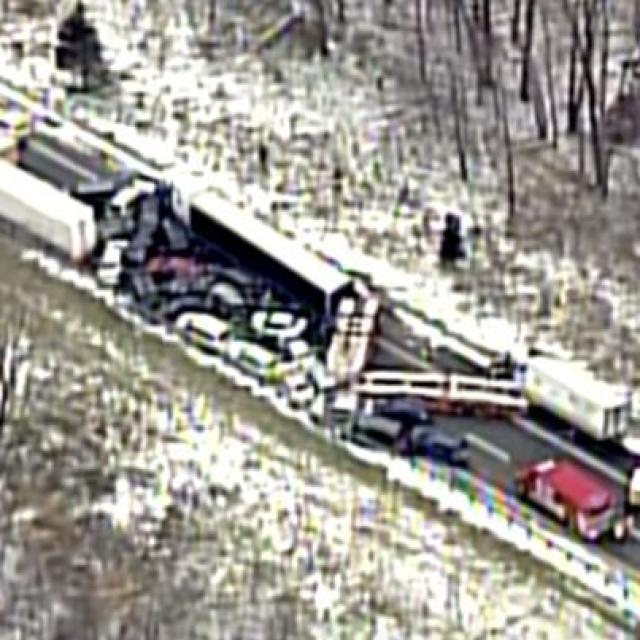traffic_incident: (117, 150, 413, 430)
